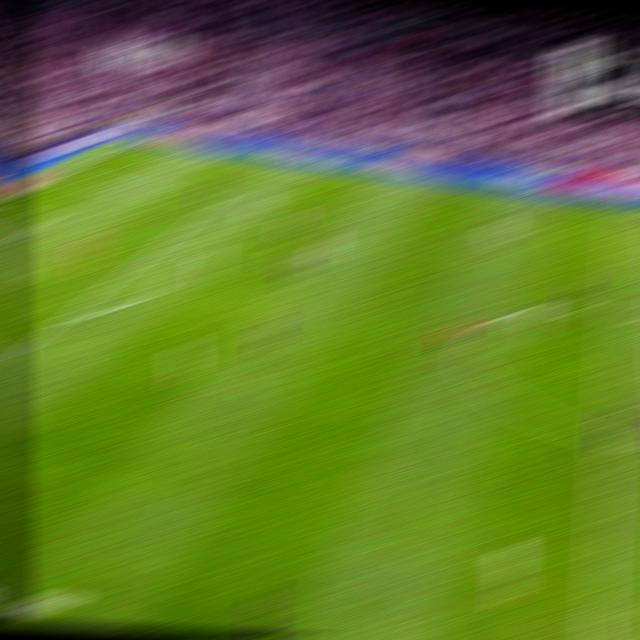bigarea_top_inner: (206, 197, 229, 206)
bigarea_top_outter: (50, 172, 73, 178)
bottom_arc_area_intersection: (52, 310, 80, 324)
halfcircle_bottom: (593, 429, 620, 444)
halfcircle_top: (600, 300, 630, 322)
midline_top_intersection: (610, 206, 633, 214)
smallarea_top_inner: (35, 216, 58, 224)
top_arc_area_intersection: (147, 240, 172, 250)
